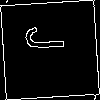J: (24, 24, 75, 52)
